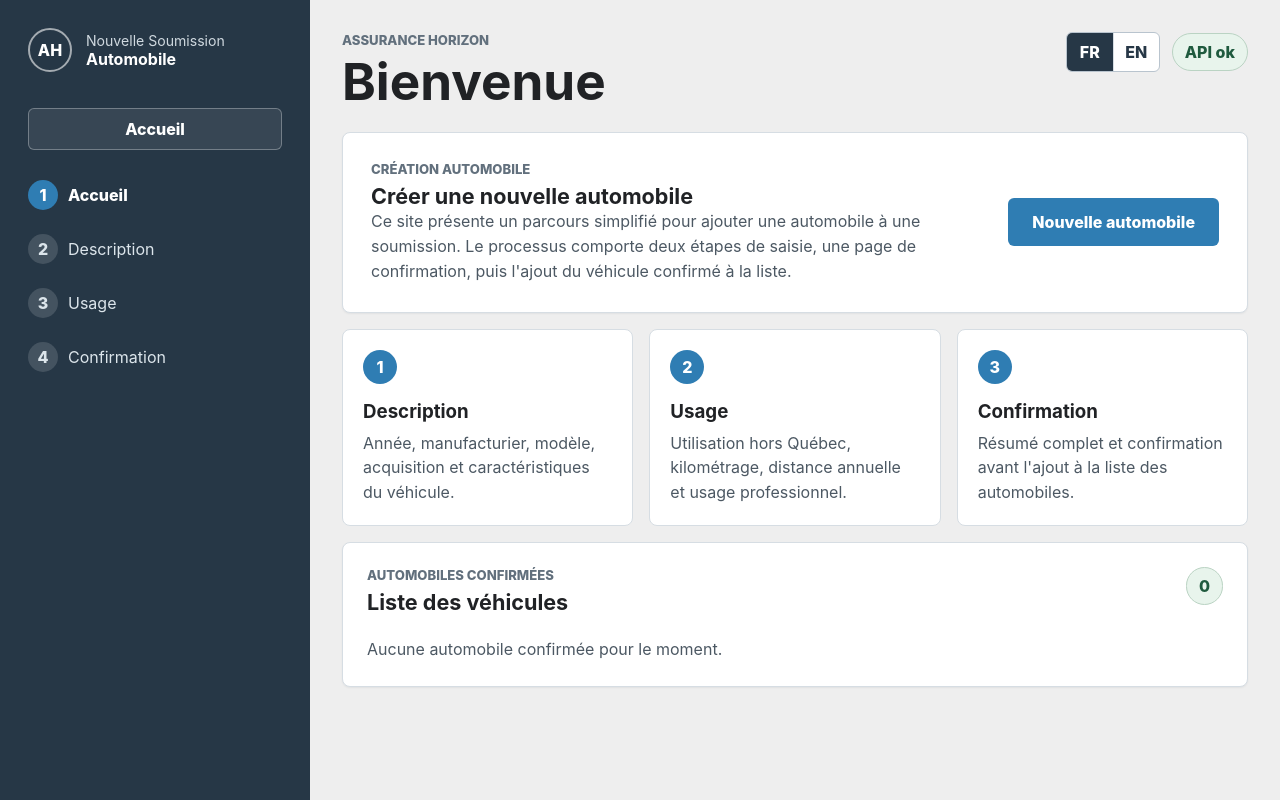
Test: App › switches the visible language
This screenshot has width=1280, height=800.
Expected: the heading "Bienvenue" is shown, [342,54,606,108]
Click the button "EN".
click(1136, 52)  # box [1113,33,1159,71]
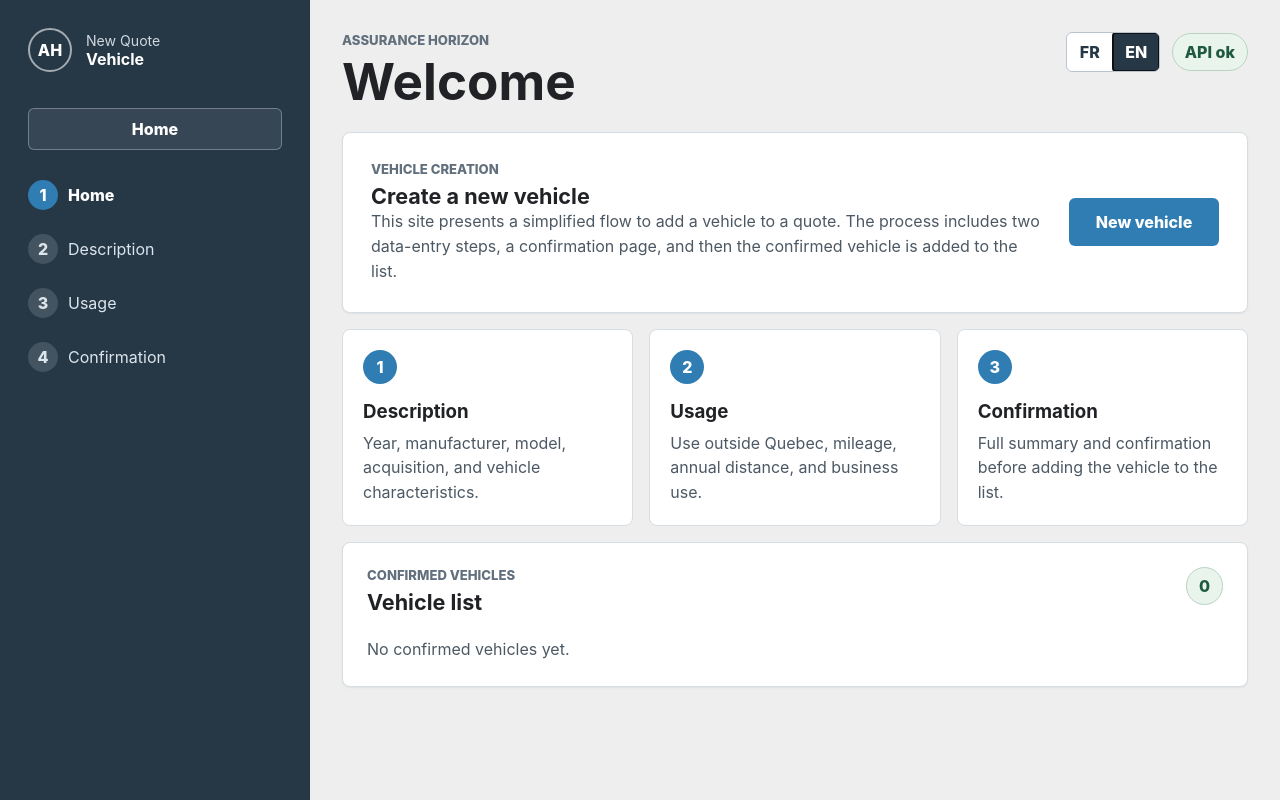
Result: the heading "Welcome" is shown at [342,54,576,108]
Result: the button "New vehicle" is shown at [1069,198,1219,246]
Click the button "FR".
click(1090, 52)  # box [1067,33,1113,71]
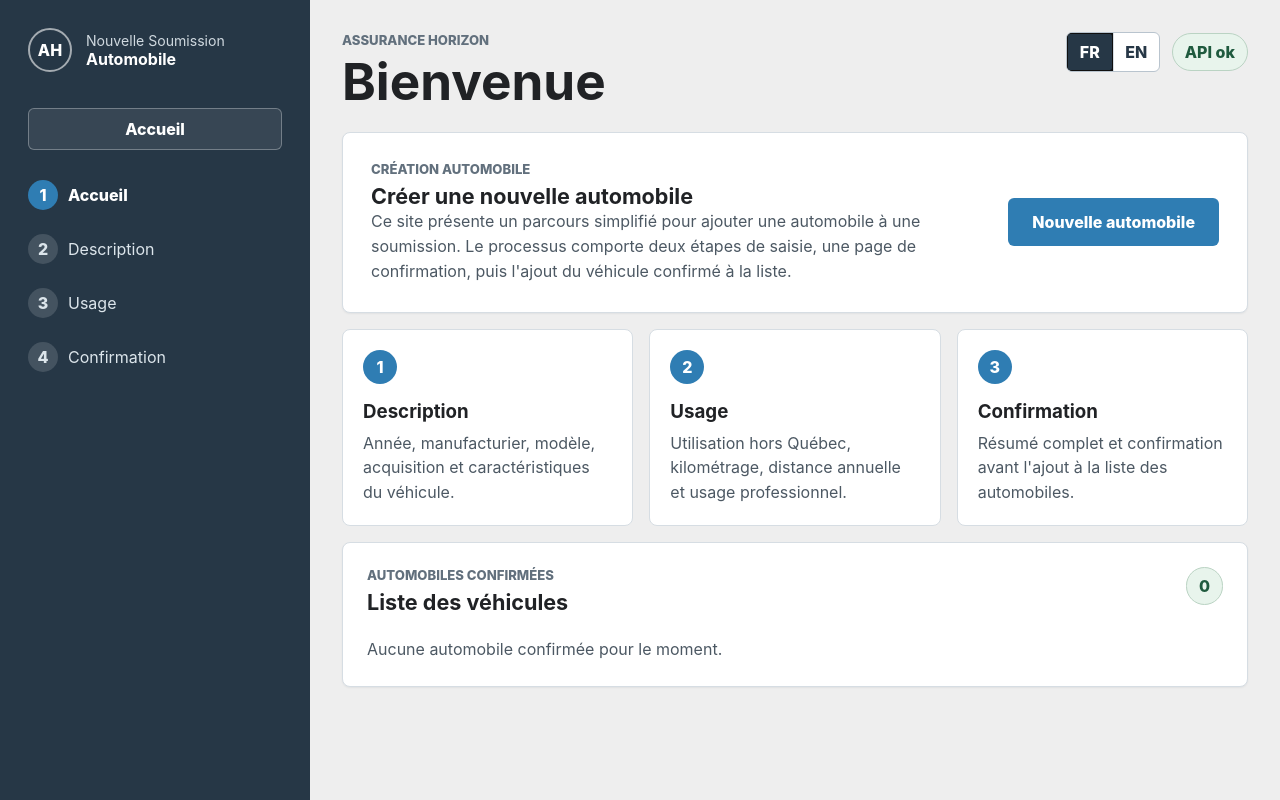
Result: the heading "Bienvenue" is shown at [342,54,606,108]
Result: the button "Nouvelle automobile" is shown at [1008,198,1219,246]
